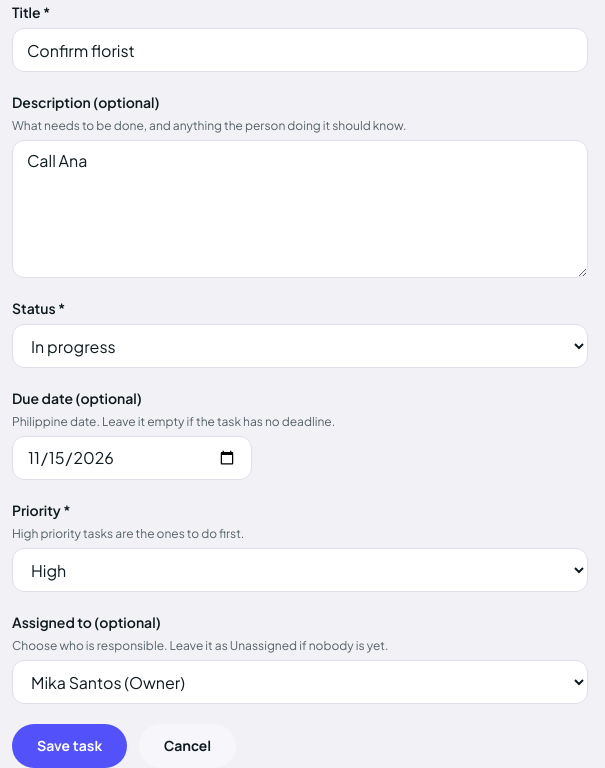
Scenario: TaskForm (edit) › shows an unchanged result as information, not as an error
(page scrolled)
Click the button "Save task": (69, 746) [12,724,127,767]
(page scrolled)
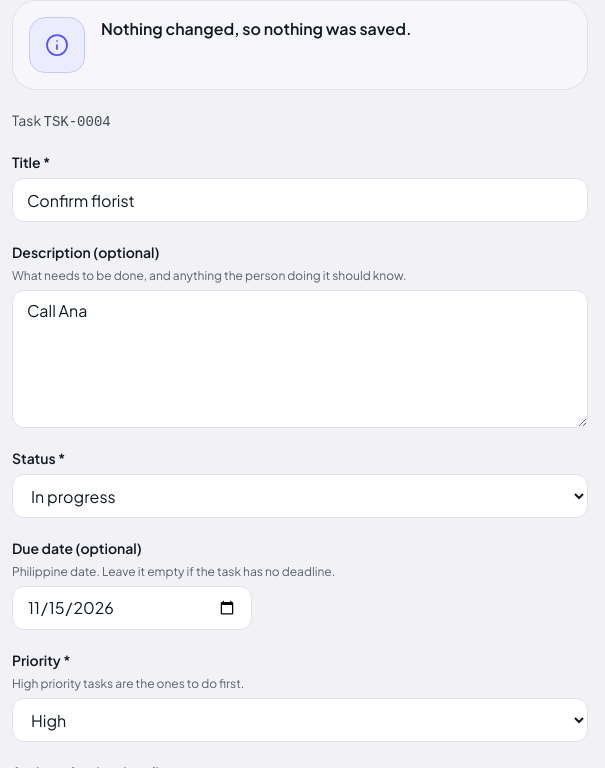
Check: the message shows "Nothing changed", box [101,18,411,39]
